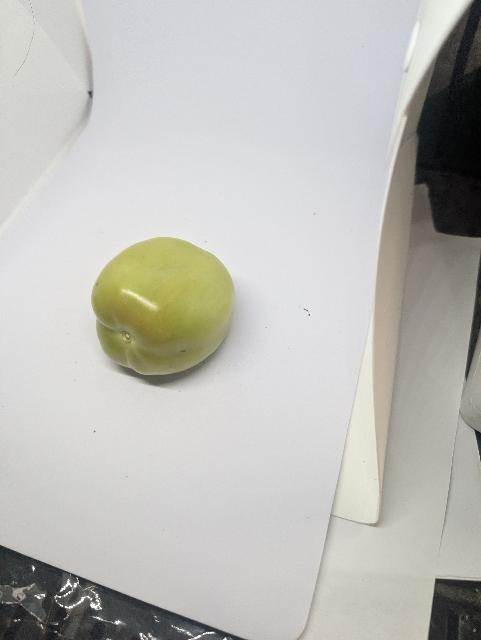green: (88, 234, 239, 378)
